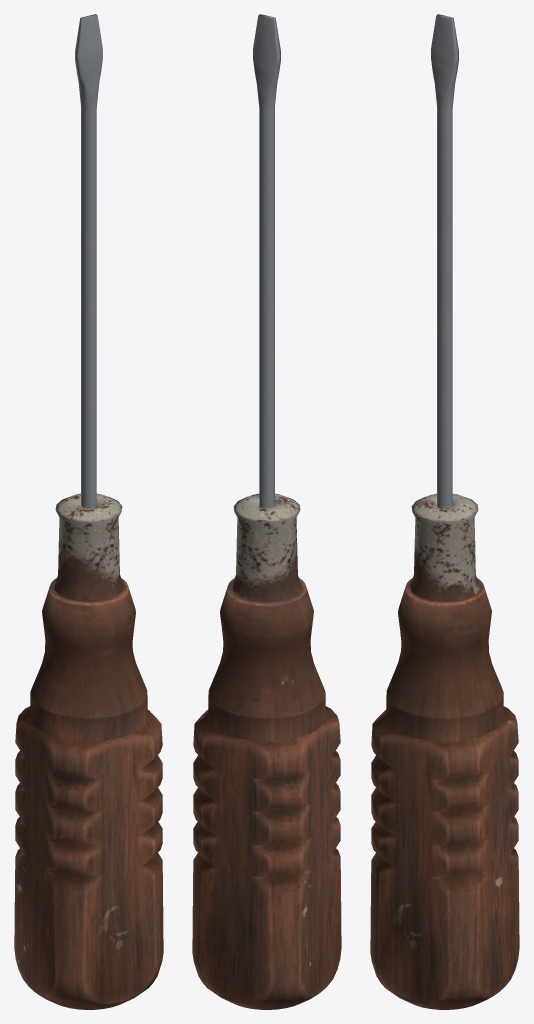
Rendered from screwdriverFlat.glb.
3 renders of one model, left to right at view 1: azimuth 30°, elevation 25°; view 2: azimuth 150°, elevation 25°; view 3: azimuth 330°, elevation 25°, orthographic.
Visible parts, largest first — view 1: flathead_screwdriver; view 2: flathead_screwdriver; view 3: flathead_screwdriver.
Part boxes in pixels (x1,y1,x2,y2): flathead_screwdriver: [14, 14, 163, 1009]; flathead_screwdriver: [192, 14, 341, 1009]; flathead_screwdriver: [370, 14, 519, 1009].
Size of the model in its own units: 0.03 by 0.2613 by 0.03.
1 material, 1 textured.
